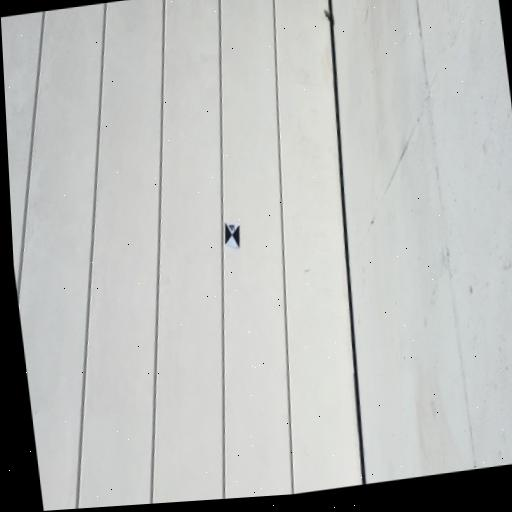target4: (225, 222, 240, 248)
